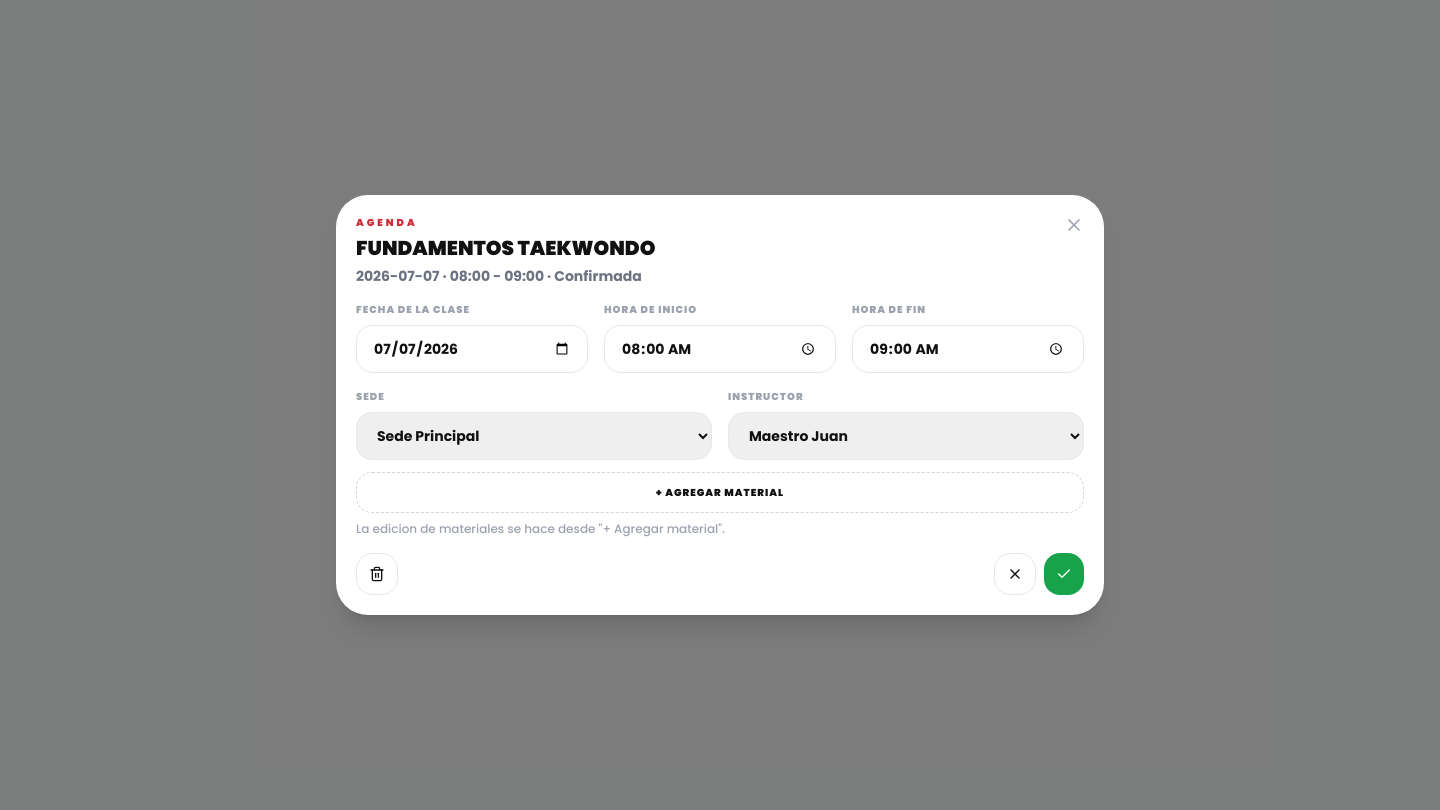
ModalEdicionJornada › eliminar pide confirmacion explicita antes de ejecutar la accion
The width and height of the screenshot is (1440, 810).
Click the button named "eliminar clase": (377, 574) left=356, top=553, right=398, bottom=595
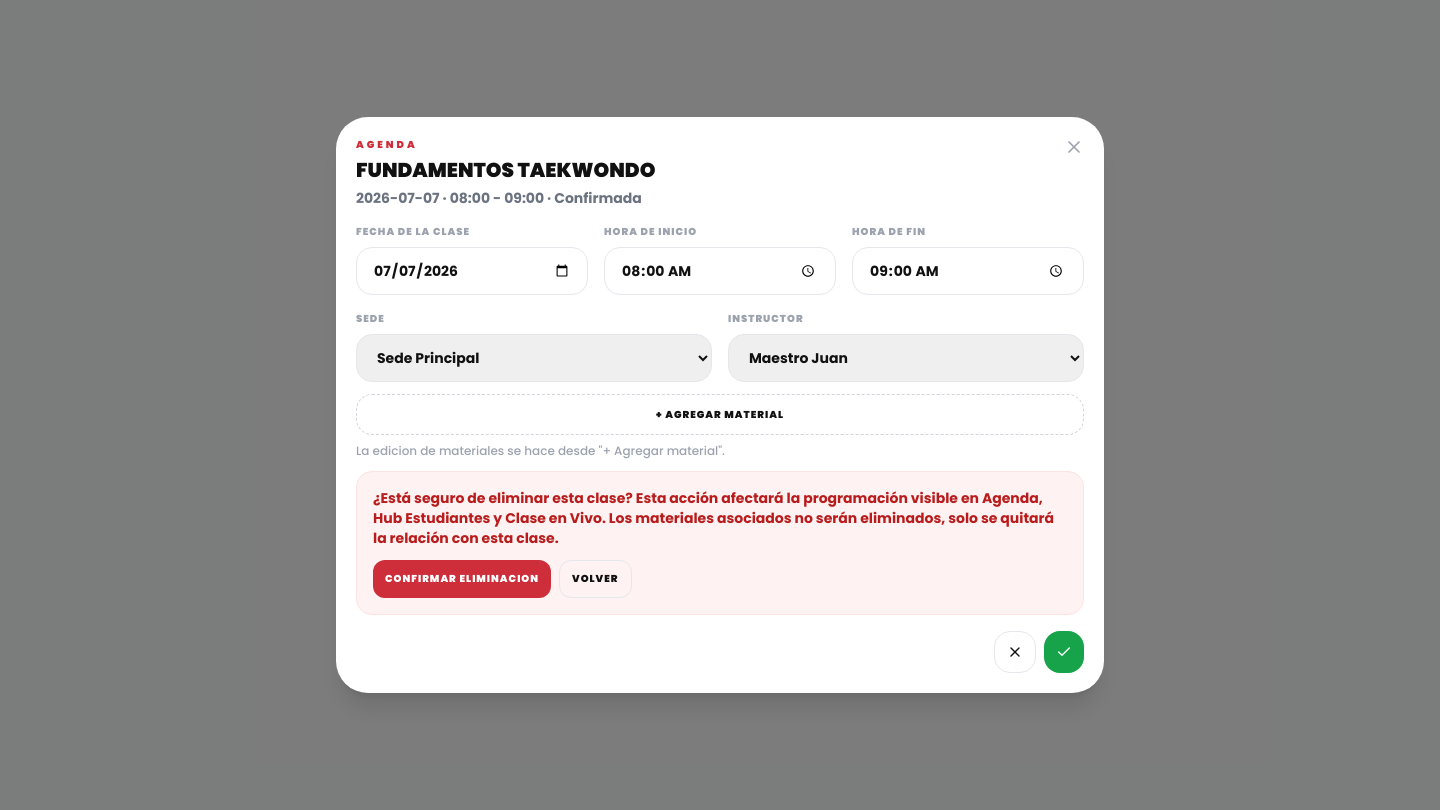
Expected: the text "seguro de eliminar esta clase" is shown, left=373, top=488, right=1054, bottom=548
